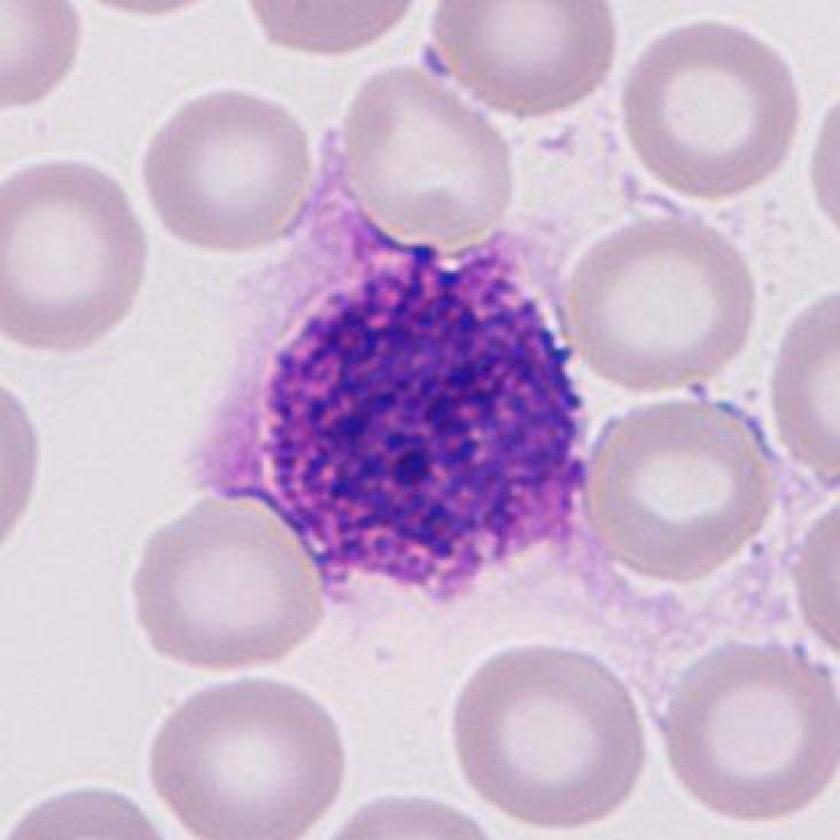basophil: (242, 247, 611, 609)
